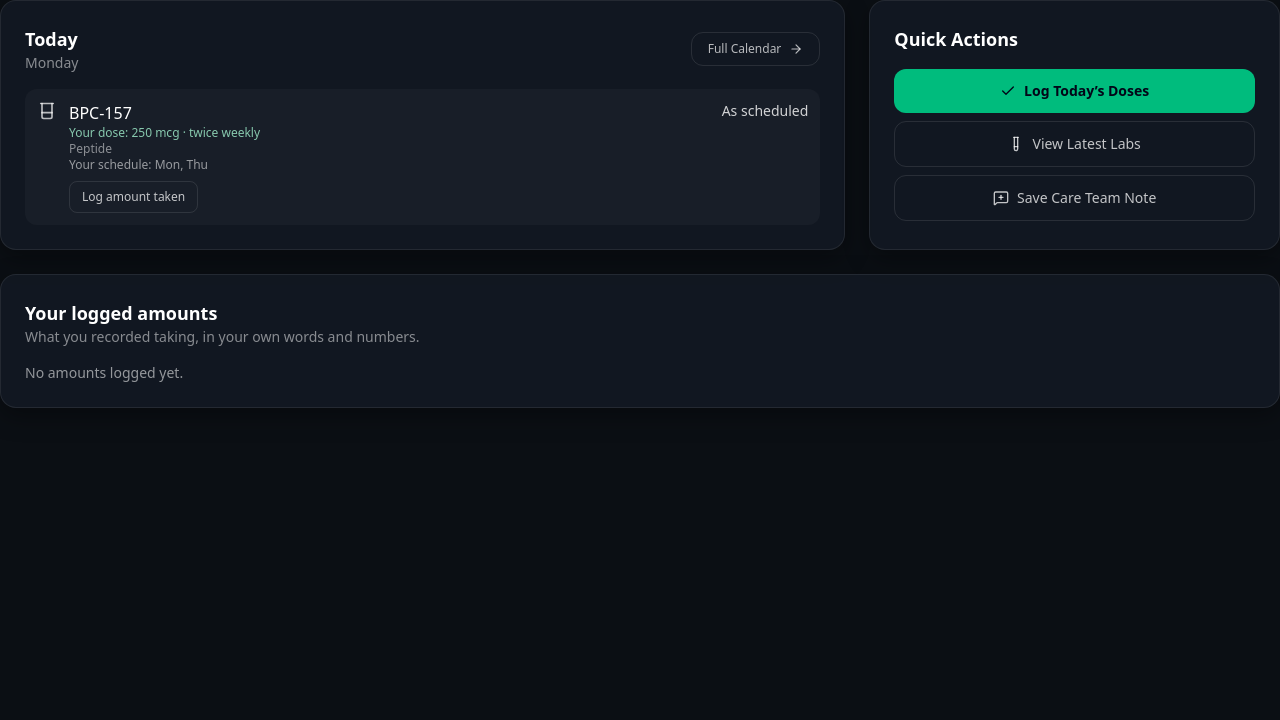
Test: schedule: logging the amount actually taken › copies the user's own saved entry only when they press "Same as my saved entry"
Click the button "Log amount taken".
click(134, 197)  # box [69, 181, 198, 213]
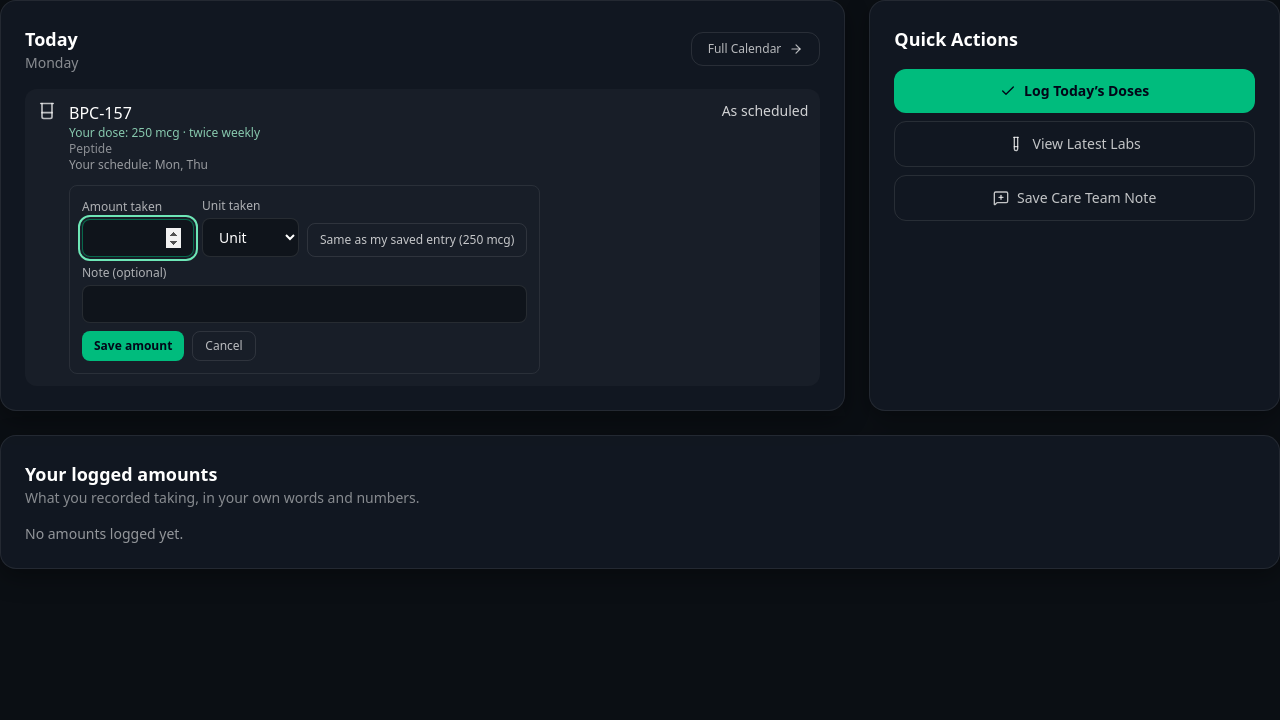
Expected: the number field labelled "Amount taken" is empty, [82, 219, 194, 257]
Click the button "Same as my saved entry (250 mcg)".
click(417, 240)  # box [307, 223, 527, 257]
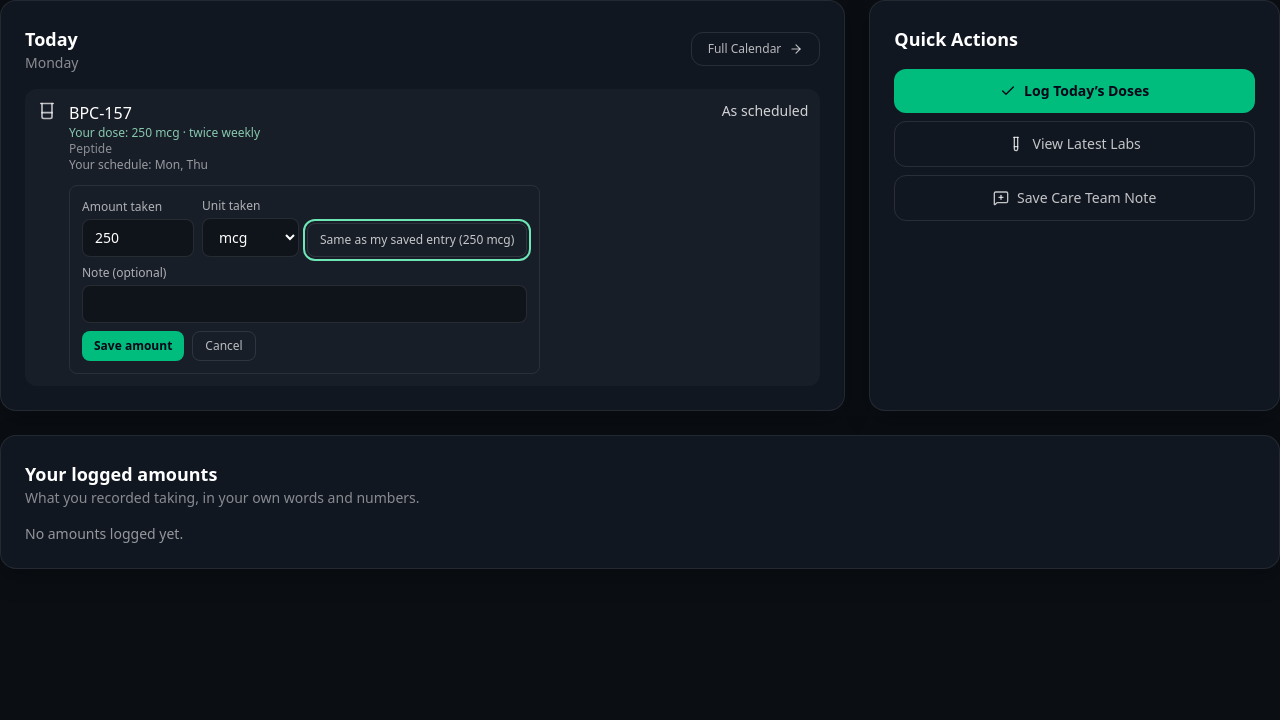
Expected: the number field labelled "Amount taken" holds "250", [82, 219, 194, 257]
Expected: the dropdown labelled "Unit taken" shows "mcg", [202, 218, 299, 257]
